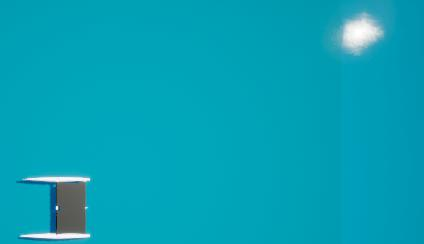boat: (17, 171, 92, 244)
drone: (57, 184, 86, 233)
land_base: (328, 2, 391, 63)
